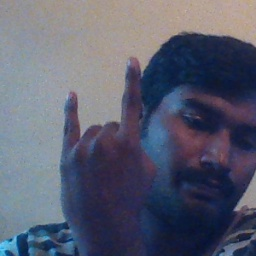V: (57, 54, 158, 223)
